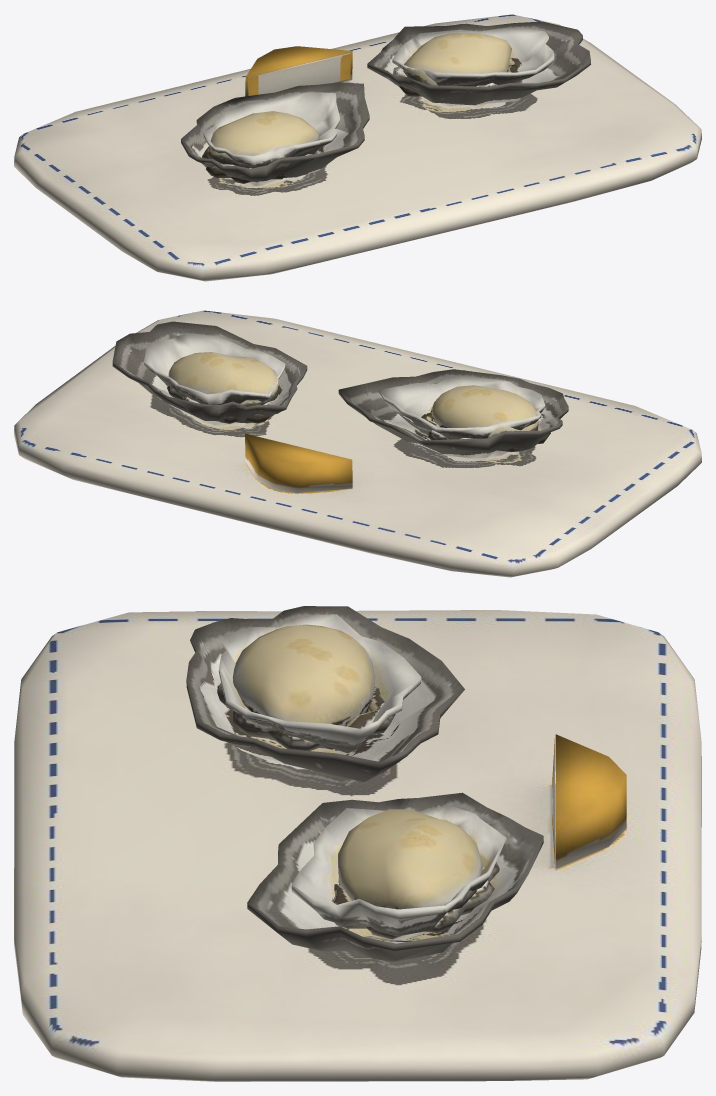
Rendered from kaki.glb.
The picture shows the model from 3 angles, top to bottom: view 1: azimuth 30°, elevation 25°; view 2: azimuth 150°, elevation 25°; view 3: azimuth 270°, elevation 25°; orthographic projection. The views are drawn at different scales.
Visible parts, largest first — view 1: prop_kaki_felt; view 2: prop_kaki_felt; view 3: prop_kaki_felt.
Boxes of the visible parts, x1,y1,x2,y2 form: prop_kaki_felt: [14, 14, 701, 281]; prop_kaki_felt: [14, 310, 701, 577]; prop_kaki_felt: [14, 606, 701, 1081].
Bounding box in the file's own units: 0.3751 × 0.0521 × 0.2401.
Materials: 1 (1 with a texture image).
